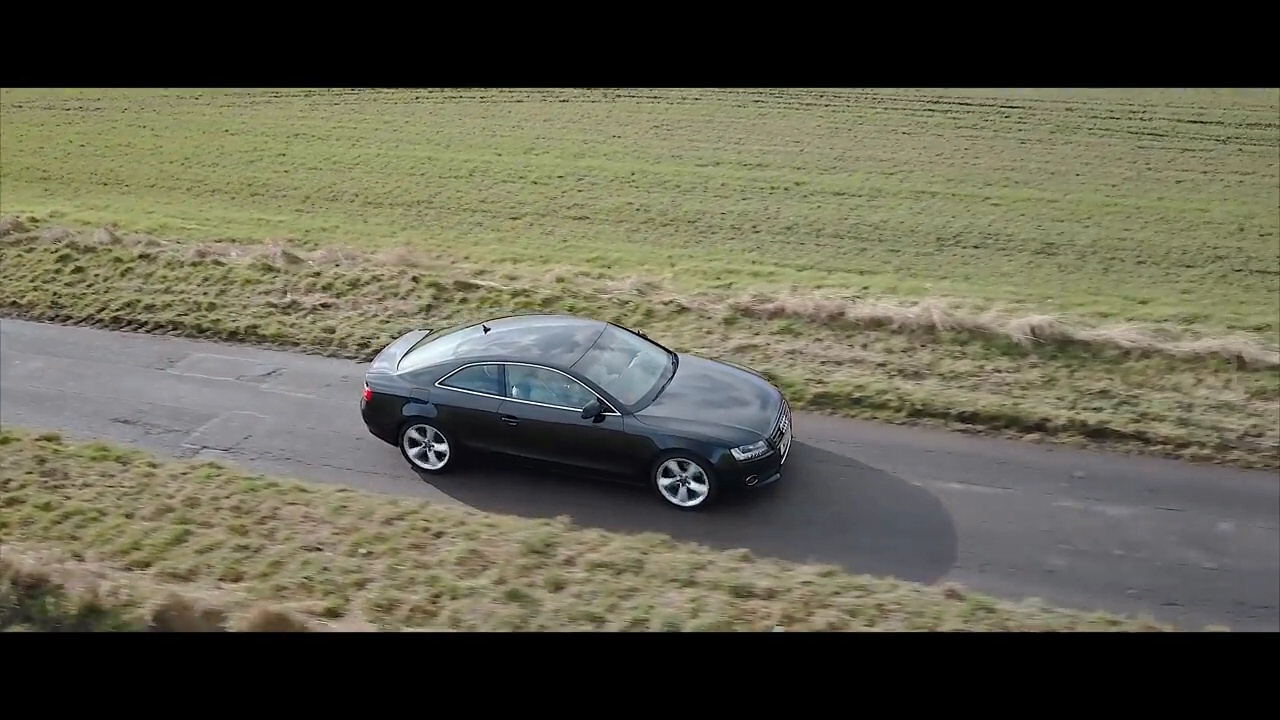araba: (354, 308, 799, 513)
